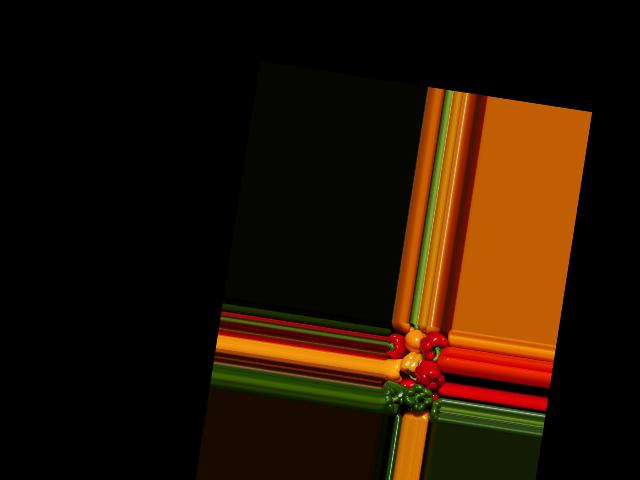bell_pepper: (424, 395, 443, 423)
